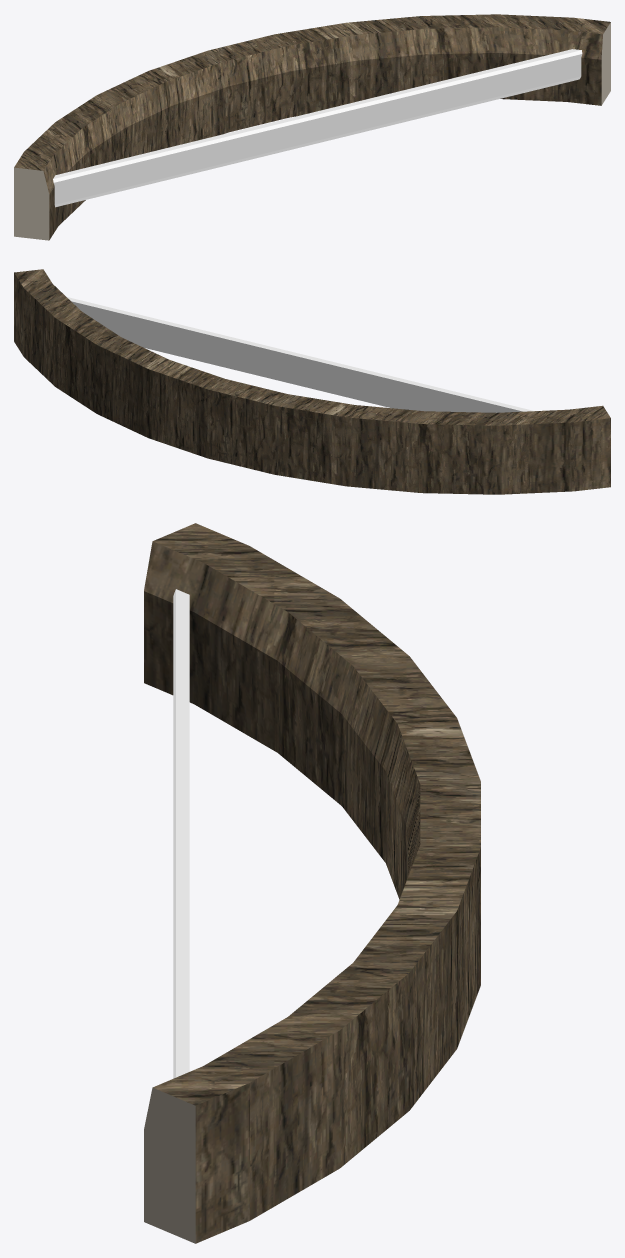
File: Bow.obj
3 renders of one model, top to bottom at view 1: azimuth 30°, elevation 25°; view 2: azimuth 150°, elevation 25°; view 3: azimuth 270°, elevation 25°, orthographic. The views are drawn at different scales.
Bounding box in the file's own units: 1.63 × 0.18 × 0.3983.
3 materials, 1 textured.
